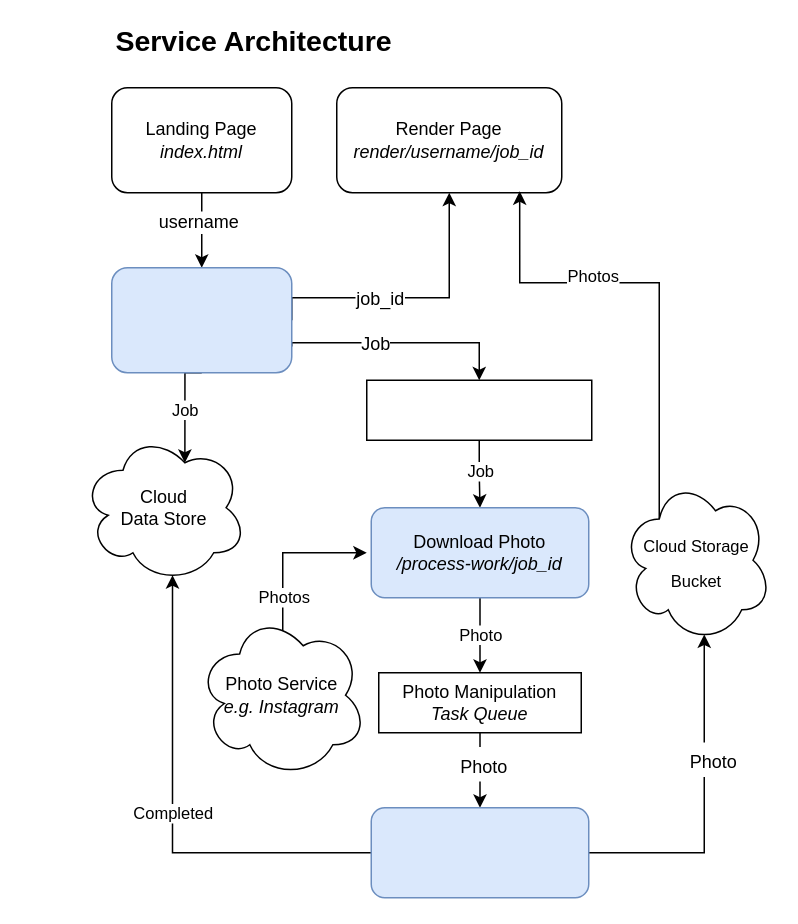
The diagram is 798 pixels wide and 924 high, and some of its shapes have lost their labels. Each missing label, with the centre of its shape:
Apply Photo Manipulation /build-image: the point at 479,852
Download Photo Task Queue: the point at 478,409
Start Job /start-job: the point at 201,319
